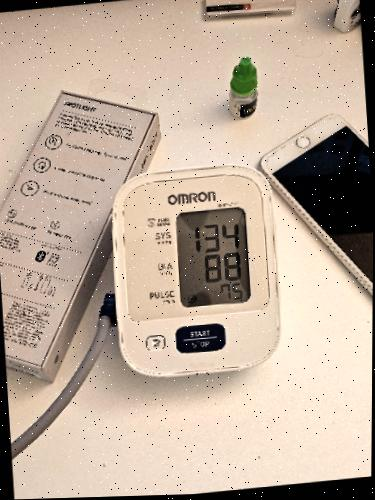bpm: (175, 205, 251, 309)
